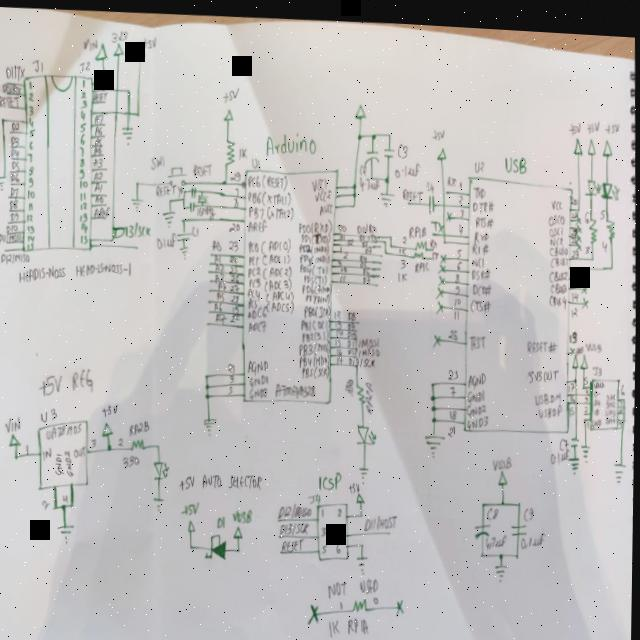capacitor: (473, 514, 490, 532), (362, 143, 379, 160), (510, 515, 526, 528), (426, 185, 434, 208), (381, 139, 393, 154), (175, 228, 191, 239), (569, 426, 579, 440), (189, 181, 195, 195), (188, 196, 194, 209)
crossover: (112, 82, 118, 91), (124, 106, 130, 114), (112, 105, 118, 113), (440, 196, 445, 202), (573, 382, 577, 389), (574, 391, 578, 397)
diode: (204, 528, 227, 557), (355, 416, 377, 441), (582, 165, 600, 190), (601, 170, 619, 193), (151, 456, 169, 477)
ground: (422, 425, 443, 451), (56, 521, 74, 542), (612, 451, 626, 474), (201, 412, 217, 431), (160, 205, 175, 225), (494, 555, 509, 575), (119, 122, 133, 143), (378, 185, 395, 202), (567, 447, 580, 467), (356, 548, 368, 568), (129, 193, 143, 210), (152, 491, 164, 508), (358, 459, 368, 478), (580, 435, 590, 454), (178, 240, 188, 257), (0, 172, 7, 190)
junction: (496, 543, 504, 552), (132, 175, 139, 183), (607, 253, 613, 262), (369, 125, 375, 134), (430, 408, 436, 417), (430, 397, 436, 406), (383, 169, 389, 178), (222, 173, 228, 182), (13, 451, 20, 458), (355, 127, 361, 135), (124, 83, 130, 91), (429, 386, 435, 394), (106, 440, 112, 448), (499, 491, 505, 498), (515, 492, 521, 499), (179, 213, 185, 220), (69, 499, 75, 506), (100, 75, 106, 82), (235, 541, 240, 549), (441, 230, 446, 238), (353, 357, 359, 363), (204, 388, 210, 394), (52, 502, 58, 508), (61, 501, 67, 507), (108, 233, 114, 239), (188, 538, 193, 545), (514, 544, 519, 551), (385, 125, 390, 132), (359, 534, 364, 541), (479, 543, 484, 550), (204, 378, 209, 385), (351, 177, 356, 184), (134, 107, 139, 113), (351, 186, 356, 192), (572, 368, 577, 374), (381, 232, 386, 238), (350, 196, 354, 203), (0, 114, 4, 121), (155, 439, 159, 445), (203, 369, 207, 375), (429, 374, 433, 380), (387, 227, 391, 233), (167, 194, 171, 200), (359, 505, 363, 511), (481, 494, 485, 500), (181, 185, 185, 191), (181, 201, 185, 207), (622, 387, 626, 393), (621, 408, 625, 414), (383, 243, 387, 249), (198, 185, 202, 190), (199, 199, 203, 204), (368, 169, 372, 174), (622, 394, 626, 399), (388, 236, 392, 241), (580, 376, 584, 381), (180, 194, 184, 198), (622, 401, 625, 406), (583, 408, 586, 412)
resistor: (223, 133, 235, 162), (587, 208, 597, 234), (352, 591, 368, 607), (605, 209, 615, 231), (130, 433, 144, 448), (355, 376, 364, 398), (413, 233, 426, 243), (412, 243, 423, 252)
source: (130, 35, 147, 55), (92, 39, 106, 60), (352, 96, 365, 114), (110, 37, 123, 54), (571, 127, 581, 148), (496, 462, 508, 479), (101, 417, 113, 434), (600, 130, 611, 148), (7, 432, 21, 446), (586, 128, 595, 147), (220, 103, 232, 117), (434, 140, 446, 154), (232, 520, 243, 535), (578, 344, 587, 362), (186, 514, 196, 529), (354, 485, 365, 498), (571, 346, 577, 360)
switch: (165, 161, 186, 183)
terminal: (307, 596, 319, 619), (396, 590, 404, 609)
text: (18, 252, 130, 287), (262, 124, 316, 154), (195, 466, 263, 488), (247, 291, 294, 310), (247, 230, 289, 251), (247, 198, 293, 217), (111, 216, 150, 237), (246, 184, 289, 203), (275, 374, 315, 394), (45, 418, 83, 439), (246, 282, 292, 299), (246, 167, 287, 186), (247, 259, 291, 276), (247, 271, 291, 288), (277, 495, 311, 516), (247, 247, 289, 264), (363, 506, 397, 526), (298, 332, 330, 353), (277, 512, 308, 533), (297, 211, 331, 230), (525, 357, 558, 376), (71, 364, 93, 391), (298, 346, 329, 365), (37, 371, 62, 394), (525, 328, 555, 347), (316, 465, 342, 486), (519, 522, 546, 542), (0, 247, 31, 264), (299, 311, 330, 328), (501, 146, 526, 166), (533, 381, 561, 398), (300, 322, 328, 339), (393, 154, 418, 172), (301, 276, 331, 291), (326, 573, 347, 594), (278, 531, 303, 548), (300, 359, 328, 374), (299, 247, 329, 261), (491, 445, 513, 464), (535, 395, 561, 411), (297, 237, 328, 250), (357, 569, 378, 588), (549, 438, 570, 457), (346, 340, 379, 352), (246, 353, 269, 370), (303, 299, 329, 314), (346, 330, 378, 342), (128, 416, 150, 433), (299, 227, 330, 239), (299, 257, 327, 270), (3, 61, 23, 79), (465, 363, 486, 380), (347, 350, 376, 362), (470, 191, 493, 206), (484, 526, 507, 541), (469, 274, 492, 289), (232, 503, 252, 520), (246, 213, 266, 230), (468, 289, 490, 304), (472, 206, 494, 221), (363, 374, 373, 407), (463, 408, 488, 421), (3, 413, 20, 432), (469, 326, 486, 345), (196, 200, 215, 217), (400, 181, 421, 196), (221, 82, 239, 99), (309, 170, 327, 187), (312, 181, 331, 197), (191, 158, 211, 173), (406, 216, 426, 231), (246, 301, 266, 316), (305, 288, 329, 300), (178, 470, 194, 488), (180, 497, 199, 512), (154, 231, 173, 246), (547, 261, 567, 275), (469, 259, 490, 272), (81, 34, 98, 50), (100, 399, 118, 414), (466, 381, 484, 396), (149, 150, 164, 168), (547, 286, 565, 301), (302, 269, 326, 280), (248, 369, 268, 382), (0, 81, 20, 94), (0, 231, 20, 244), (39, 405, 56, 420), (471, 234, 488, 249), (92, 202, 109, 217), (328, 611, 340, 632), (355, 216, 376, 228), (120, 450, 139, 463), (359, 171, 378, 184), (583, 331, 602, 344), (547, 237, 567, 249), (141, 30, 155, 47), (109, 26, 126, 40), (247, 315, 265, 328), (467, 395, 485, 408), (153, 180, 171, 193), (549, 247, 567, 260), (64, 446, 72, 475), (317, 195, 332, 210), (473, 222, 488, 237), (602, 112, 618, 126), (0, 93, 17, 106), (549, 273, 566, 286), (249, 382, 267, 394), (429, 212, 443, 227), (347, 611, 358, 630), (395, 136, 407, 153), (344, 371, 354, 391), (307, 487, 322, 500), (29, 56, 42, 71), (54, 449, 62, 473), (412, 254, 429, 265), (548, 205, 565, 216), (485, 499, 499, 512), (548, 217, 562, 230), (585, 111, 598, 125), (170, 180, 183, 194), (360, 611, 370, 629), (567, 112, 579, 127), (91, 88, 107, 99), (357, 227, 376, 236), (558, 427, 568, 444), (549, 189, 562, 202), (470, 248, 483, 261), (430, 121, 444, 133), (473, 177, 485, 191), (446, 359, 458, 373), (73, 441, 84, 456), (523, 498, 533, 514), (77, 57, 89, 70), (212, 309, 225, 321), (347, 475, 359, 488), (249, 152, 259, 166), (549, 228, 563, 238), (237, 142, 246, 157), (227, 166, 239, 177), (227, 259, 238, 271), (472, 153, 483, 165), (590, 408, 601, 420), (91, 167, 102, 179), (227, 218, 240, 228), (446, 416, 456, 429), (227, 235, 237, 248), (447, 321, 457, 334), (4, 222, 17, 232), (217, 510, 226, 524), (445, 168, 455, 180), (211, 235, 221, 247), (425, 173, 433, 188), (91, 154, 101, 166), (92, 179, 102, 191), (397, 264, 407, 276), (568, 321, 576, 335), (591, 355, 601, 366), (92, 111, 102, 122), (228, 309, 240, 318), (448, 401, 457, 413), (9, 134, 18, 146), (9, 146, 18, 158), (8, 197, 17, 209), (226, 357, 234, 370), (229, 269, 239, 279), (228, 279, 238, 289), (216, 277, 226, 287), (213, 269, 223, 279), (336, 217, 346, 227), (77, 177, 87, 187), (9, 171, 19, 181), (214, 259, 223, 270), (347, 305, 356, 316), (604, 407, 615, 416), (25, 187, 34, 198), (8, 185, 17, 196), (10, 159, 19, 170), (43, 444, 51, 456), (41, 496, 49, 508), (592, 372, 604, 380), (358, 158, 366, 170), (79, 231, 87, 243), (190, 221, 197, 234), (455, 187, 464, 197), (230, 289, 239, 299), (360, 269, 370, 278), (346, 325, 356, 334), (337, 517, 343, 532), (582, 201, 588, 216), (605, 391, 615, 400), (605, 383, 615, 392), (92, 134, 101, 144), (92, 192, 102, 201), (24, 211, 33, 221), (25, 240, 34, 250), (9, 210, 18, 220), (428, 232, 437, 242), (447, 377, 455, 388), (213, 249, 221, 260), (333, 331, 341, 342), (319, 521, 327, 532), (61, 490, 69, 501), (604, 400, 615, 408), (78, 119, 86, 130), (79, 198, 87, 209), (78, 220, 86, 231), (93, 123, 101, 134), (398, 239, 406, 250), (335, 534, 341, 548), (600, 230, 606, 244), (78, 97, 87, 106), (92, 144, 101, 153), (25, 232, 34, 241), (10, 119, 18, 129), (228, 250, 236, 260), (230, 300, 238, 310), (213, 298, 221, 308), (216, 287, 224, 297), (332, 304, 340, 314), (358, 246, 366, 256), (361, 259, 369, 269), (334, 322, 342, 332), (569, 188, 577, 198), (570, 283, 578, 293), (570, 240, 578, 250), (574, 337, 582, 347), (78, 87, 86, 97), (78, 210, 86, 220), (430, 244, 438, 254), (78, 130, 84, 143), (399, 227, 406, 238), (232, 182, 239, 193), (320, 538, 327, 549), (570, 298, 577, 309), (567, 374, 574, 385), (77, 166, 84, 177), (27, 163, 34, 174), (26, 175, 33, 186), (345, 232, 353, 241), (333, 314, 341, 323), (336, 500, 342, 512), (455, 241, 461, 253), (570, 260, 578, 269), (592, 380, 600, 389), (79, 107, 85, 119), (78, 188, 84, 200), (27, 115, 33, 127), (26, 223, 34, 232), (336, 349, 343, 359), (117, 434, 124, 444), (27, 126, 34, 136), (457, 215, 463, 226), (231, 193, 237, 204), (227, 380, 233, 391), (90, 435, 96, 446), (455, 252, 461, 263), (453, 277, 459, 288), (452, 302, 458, 313), (598, 200, 604, 211), (568, 397, 574, 408), (77, 143, 83, 154), (26, 103, 32, 114), (27, 138, 33, 149), (25, 150, 31, 161), (363, 239, 371, 247), (346, 316, 354, 324), (569, 202, 577, 210), (453, 289, 460, 298), (337, 226, 344, 235), (582, 367, 589, 376), (593, 389, 600, 398), (571, 269, 577, 279), (569, 385, 575, 395), (77, 155, 83, 165), (27, 90, 33, 100), (27, 200, 33, 210), (457, 201, 463, 211), (399, 252, 405, 262), (339, 260, 347, 267), (359, 254, 366, 262), (583, 237, 590, 245), (570, 219, 577, 227), (454, 266, 459, 277), (617, 410, 622, 421), (339, 268, 345, 277), (335, 341, 341, 350), (227, 370, 233, 379), (373, 590, 379, 599), (570, 228, 576, 237), (593, 398, 599, 407), (585, 411, 590, 421), (342, 245, 348, 253), (25, 441, 29, 453), (335, 253, 340, 262), (320, 502, 324, 513), (619, 375, 623, 386), (457, 171, 461, 182), (361, 234, 367, 241), (80, 76, 84, 86), (338, 239, 342, 248), (339, 595, 343, 604), (584, 386, 588, 395), (27, 79, 31, 88), (584, 396, 588, 404), (583, 378, 587, 386), (618, 397, 622, 404), (619, 391, 623, 397)
